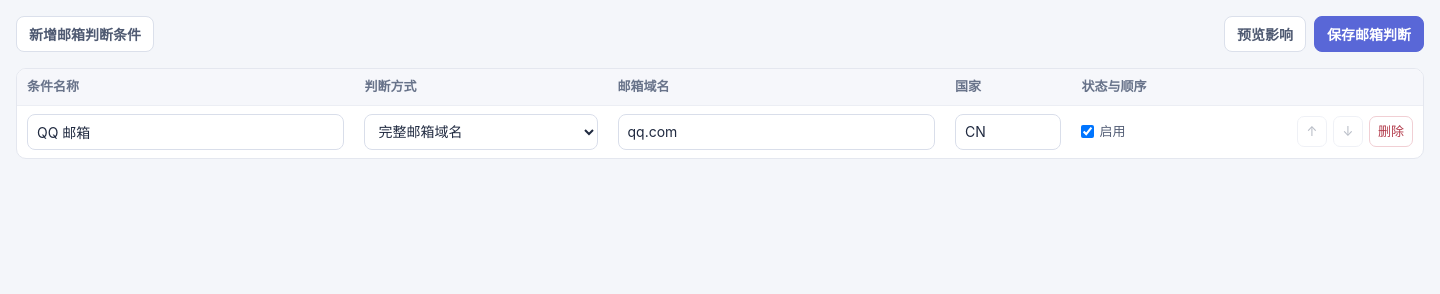
Test: LocationRuleEditor › edits and previews compact email attribution rules
Check: the table is shown, box [17,69,1423,158]
Check: the number of rows is 2, box [17,69,1423,105]; [17,105,1423,158]
Click the button "新增邮箱判断条件": [85, 34] box [16,16,154,52]
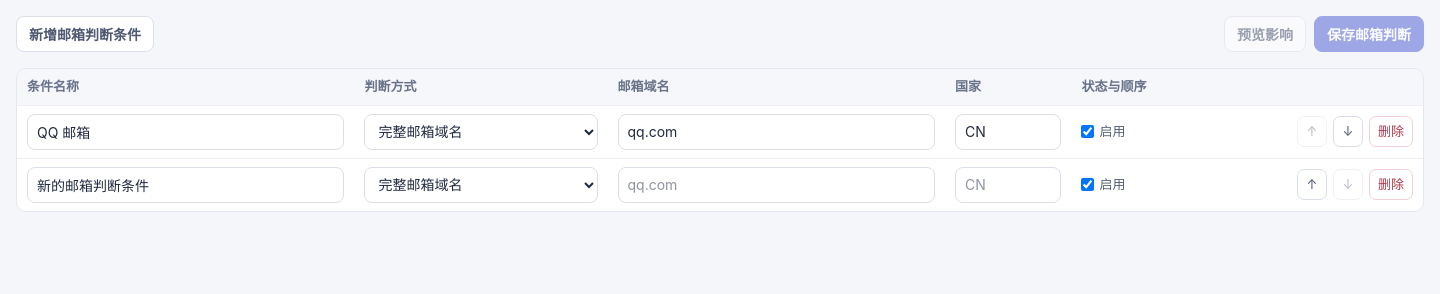
Check: the number of rows is 3, box [17,69,1423,105]; [17,105,1423,158]; [17,158,1423,210]
In the field named "邮箱域名或后缀": [776, 184] box [618,166,935,202], type ".ru"
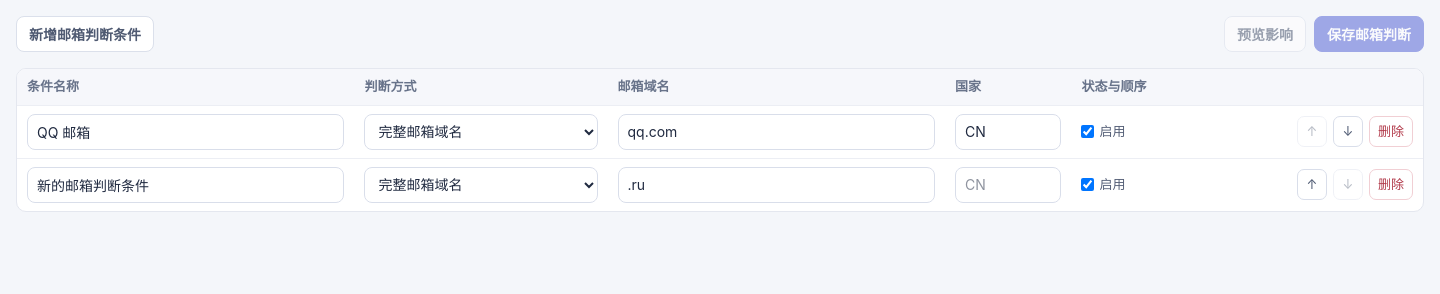
In the field named "判断为哪个国家或地区": [1008, 184] box [955,166,1062,202], type "RU"
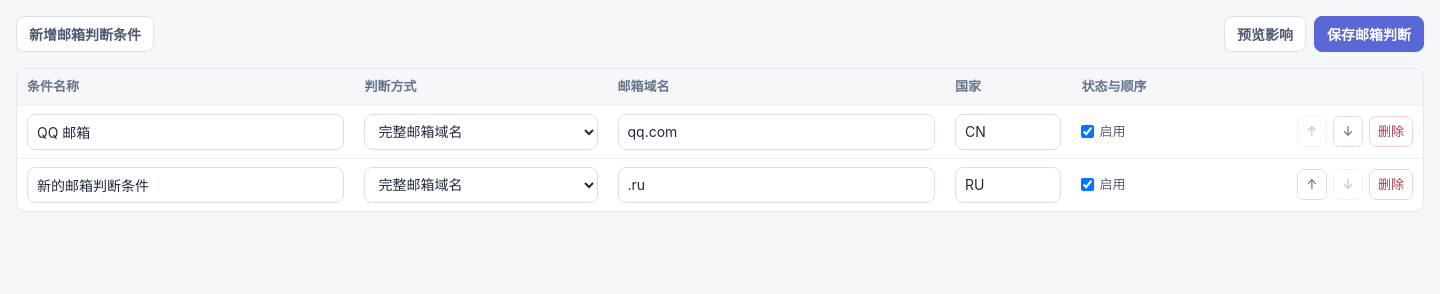
Click the button "预览影响": [1265, 34] box [1224,16,1306,52]
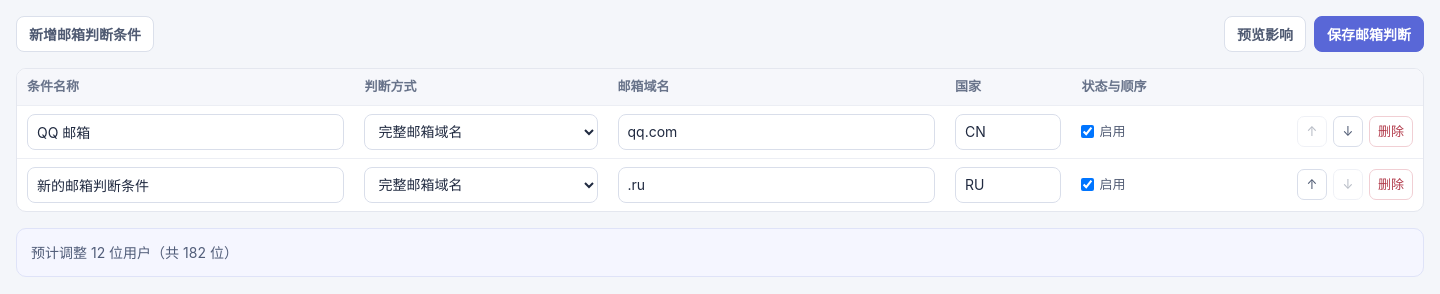
Check: the text "预计调整 12 位用户" is shown, box [31,244,151,260]
